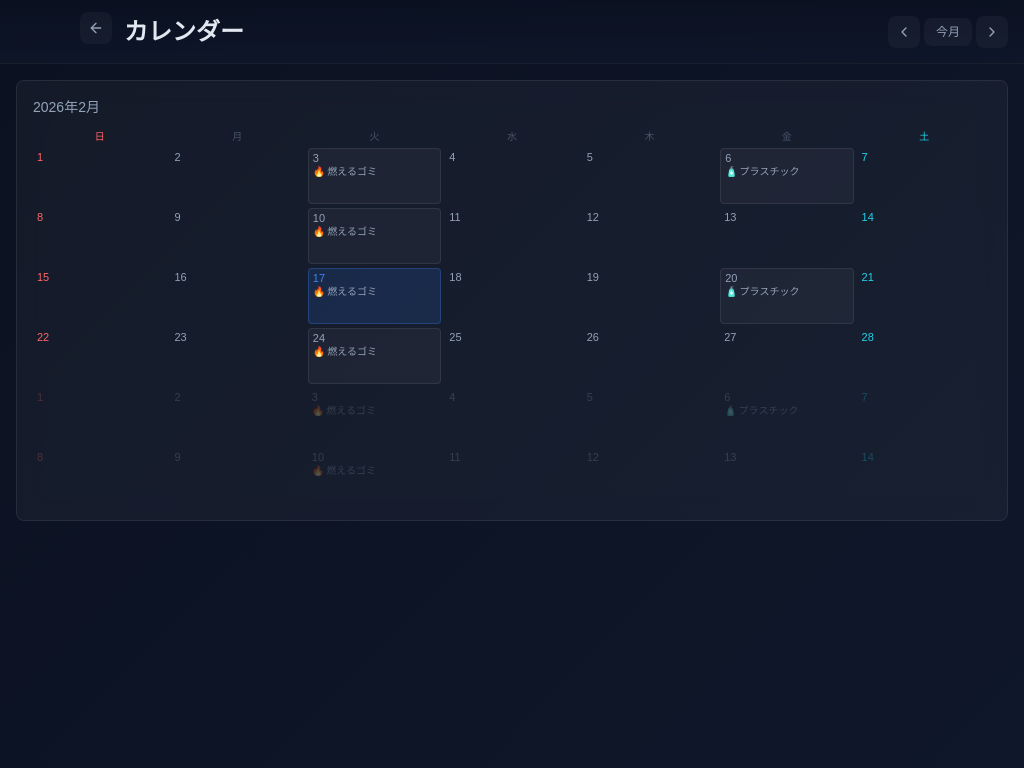
Test case: MonthlyCalendar › 月ナビゲーション › 翌月ボタンで翌月に移動する
Expected: the heading "2026年2月" is shown, left=33, top=99, right=100, bottom=115
What coordinates should you click on to do the following:
click the button named "翌月"
I would click on:
 (992, 32)
Its box is left=976, top=16, right=1008, bottom=48.
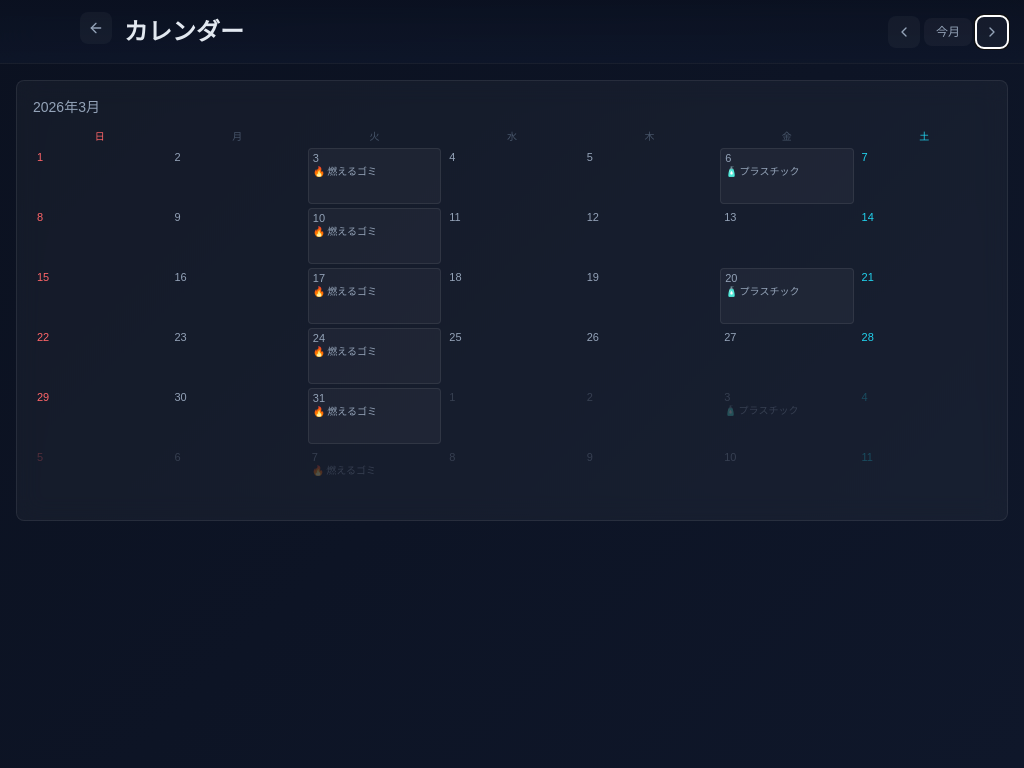
Expected: the heading "2026年3月" is shown, left=33, top=99, right=100, bottom=115
